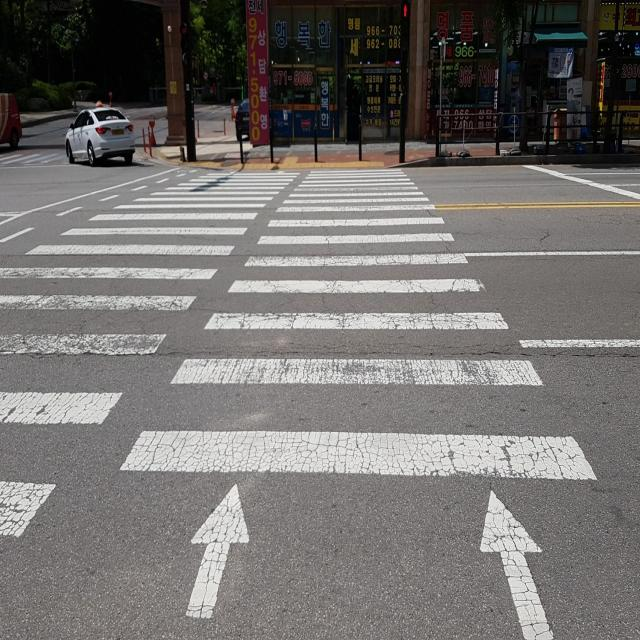빨간불: (399, 0, 411, 43)
횡단보도: (0, 171, 596, 639)
